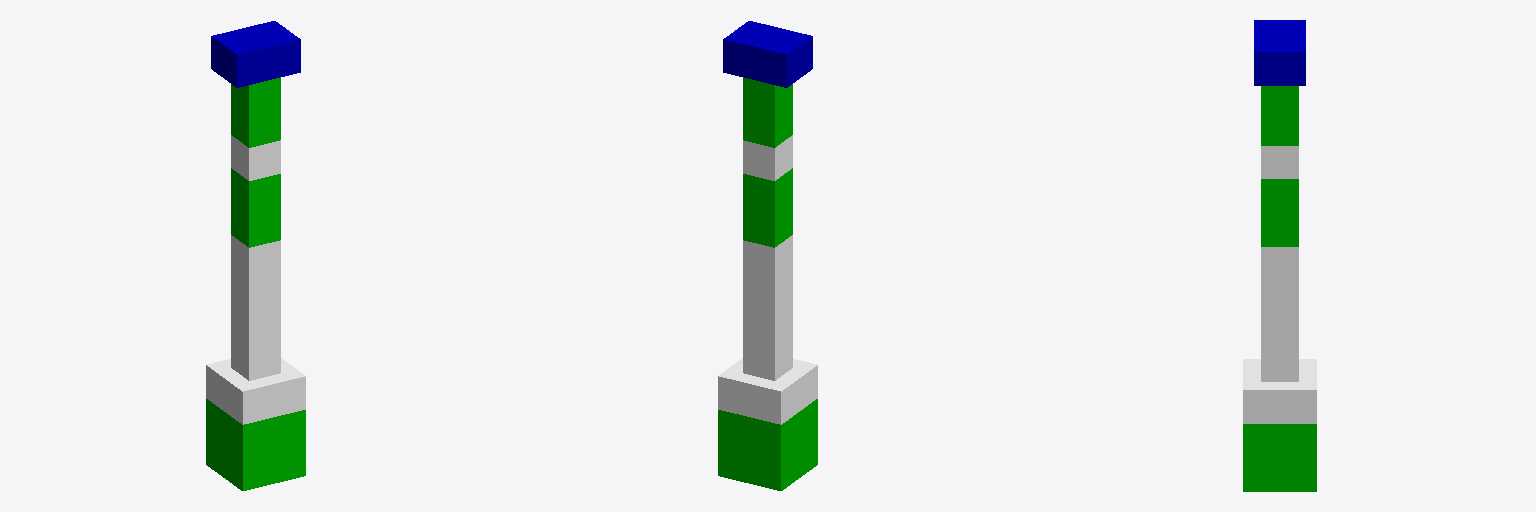
The robot description file, URDF, robot "six_dof_arm":
<?xml version="1.0"?>
<robot name="six_dof_arm" xmlns:xacro="http://ros.org/wiki/xacro">
    <material name="blue">
        <color rgba="0 0 0.8 1"/>
    </material>

    <material name="green">
        <color rgba="0.0 0.8 0.0 1.0"/>
    </material>

    <material name="white">
        <color rgba="1 1 1 1"/>
    </material>

    <link name="base_link">
        <visual>
            <geometry>
                <box size="0.1 0.1 0.1"/>
            </geometry>
            <material name="green"/>
            <origin rpy="0 0 0" xyz="0 0 0.05"/>
        </visual>
    </link>

    <joint name="joint1" type="revolute">
        <axis xyz="0 0 1"/>
        <limit effort="1000.0" lower="-3.14" upper="3.14" velocity="0.5"/>
        <origin rpy="0 0 0" xyz="0 0 0.1"/>
        <parent link="base_link"/>
        <child link="link1"/>
    </joint>

    <link name="link1">
        <visual>
            <geometry>
                <box size="0.1 0.1 0.05"/>
            </geometry>
            <material name="white"/>
            <origin rpy="0 0 0" xyz="0 0 0.025"/>
        </visual>
    </link>

    <joint name="joint2" type="revolute">
        <axis xyz="0 1 0"/>
        <limit effort="1000.0" lower="-3.14" upper="3.14" velocity="0.5"/>
        <origin rpy="0 0 0" xyz="0 0 0.05"/>
        <parent link="link1"/>
        <child link="link2"/>
    </joint>

    <link name="link2">
        <visual>
            <geometry>
                <box size="0.05 0.05 0.2"/>
            </geometry>
            <material name="white"/>
            <origin rpy="0 0 0" xyz="0 0 0.1"/>
        </visual>
    </link>

    <joint name="joint3" type="revolute">
        <axis xyz="0 1 0"/>
        <limit effort="1000.0" lower="-3.14" upper="3.14" velocity="0.5"/>
        <origin rpy="0 0 0" xyz="0 0 0.2"/>
        <parent link="link2"/>
        <child link="link3"/>
    </joint>

    <link name="link3">
        <visual>
            <geometry>
                <box size="0.05 0.05 0.1"/>
            </geometry>
            <material name="green"/>
            <origin rpy="0 0 0" xyz="0 0 0.05"/>
        </visual>
    </link>

    <joint name="joint4" type="revolute">
        <axis xyz="0 0 1"/>
        <limit effort="1000.0" lower="-3.14" upper="3.14" velocity="0.5"/>
        <origin rpy="0 0 0" xyz="0 0 0.1"/>
        <parent link="link3"/>
        <child link="link4"/>
    </joint>

    <link name="link4">
        <visual>
            <geometry>
                <box size="0.05 0.05 0.05"/>
            </geometry>
            <material name="white"/>
            <origin rpy="0 0 0" xyz="0 0 0.025"/>
        </visual>
    </link>

    <joint name="joint5" type="revolute">
        <axis xyz="0 1 0"/>
        <limit effort="1000.0" lower="-3.14" upper="3.14" velocity="0.5"/>
        <origin rpy="0 0 0" xyz="0 0 0.05"/>
        <parent link="link4"/>
        <child link="link5"/>
    </joint>

    <link name="link5">
        <visual>
            <geometry>
                <box size="0.05 0.05 0.1"/>
            </geometry>
            <material name="green"/>
            <origin rpy="0 0 0" xyz="0 0 0.05"/>
        </visual>
    </link>

    <joint name="joint6" type="revolute">
        <axis xyz="0 0 1"/>
        <limit effort="1000.0" lower="-3.14" upper="3.14" velocity="0.5"/>
        <origin rpy="0 0 0" xyz="0 0 0.1"/>
        <parent link="link5"/>
        <child link="link6"/>
    </joint>

    <link name="link6">
        <visual>
            <geometry>
                <box size="0.1 0.07 0.05"/>
            </geometry>
            <material name="blue"/>
            <origin rpy="0 0 0" xyz="0 0 0.025"/>
        </visual>
    </link>

</robot>

--- What the picture shows (computed from the rendered views, not written in the file) ---
The picture shows the robot from 3 angles, left to right: view 1: azimuth 30°, elevation 25°; view 2: azimuth 150°, elevation 25°; view 3: azimuth 270°, elevation 25°; orthographic projection.
Model six_dof_arm with 7 links and 6 joints (6 revolute), rooted at base_link, posed all joints at 0.
Visible links, largest first — view 1: link2, base_link, link6, link1, link3, link5, link4; view 2: link2, base_link, link6, link1, link3, link5, link4; view 3: link2, base_link, link1, link6, link3, link5, link4.
Link boxes in pixels (<box>): link2: <box>231,235,280,380</box>; base_link: <box>206,399,305,490</box>; link6: <box>211,21,300,87</box>; link1: <box>206,358,305,424</box>; link3: <box>231,168,280,247</box>; link5: <box>231,77,280,147</box>; link4: <box>231,135,280,180</box>; link2: <box>743,235,792,380</box>; base_link: <box>718,399,817,490</box>; link6: <box>723,21,812,87</box>; link1: <box>718,358,817,424</box>; link3: <box>743,168,792,247</box>; link5: <box>743,77,792,147</box>; link4: <box>743,135,792,180</box>; link2: <box>1261,247,1298,381</box>; base_link: <box>1243,424,1316,491</box>; link1: <box>1243,359,1316,423</box>; link6: <box>1254,20,1305,85</box>; link3: <box>1261,179,1298,246</box>; link5: <box>1261,86,1298,145</box>; link4: <box>1261,146,1298,178</box>.
Bounding box of the posed robot: 0.1 × 0.1 × 0.65 m (x, y, z).
Geometry: primitives only (box / cylinder / sphere), no mesh files.